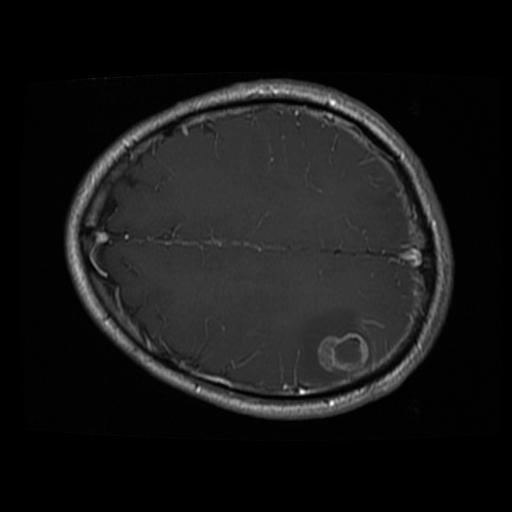glioma: (289, 304, 381, 387)
